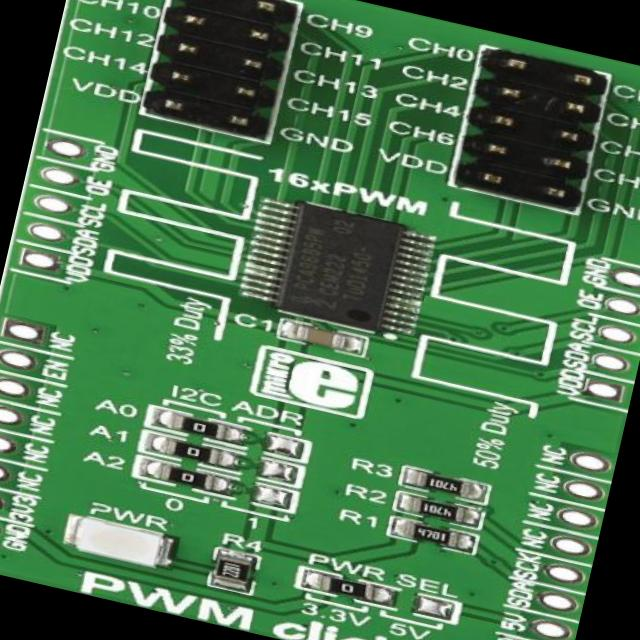IC: (242, 190, 430, 340)
LED: (77, 516, 169, 568)
capacitor: (290, 323, 362, 356)
connector: (447, 44, 616, 218), (140, 0, 296, 141)
resistor: (163, 408, 235, 444), (164, 440, 224, 470), (212, 550, 255, 591), (312, 572, 374, 600), (158, 462, 216, 490), (413, 470, 470, 498), (407, 496, 462, 520), (404, 523, 456, 546)
